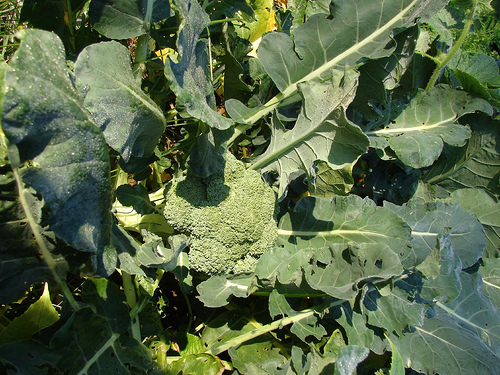broccoli: (158, 143, 280, 279)
